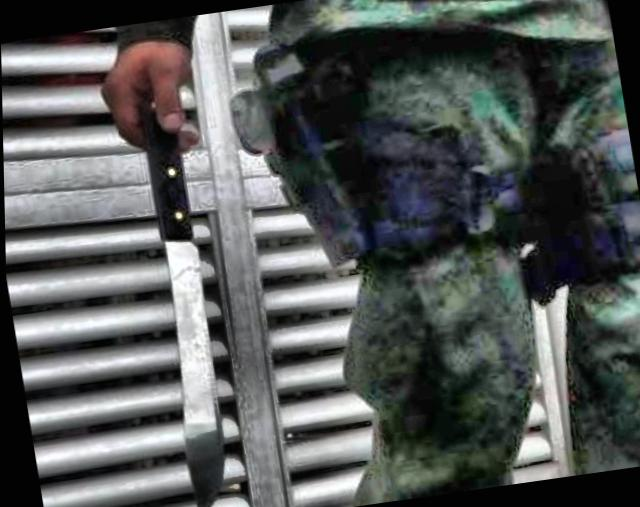knife: (91, 60, 255, 507)
